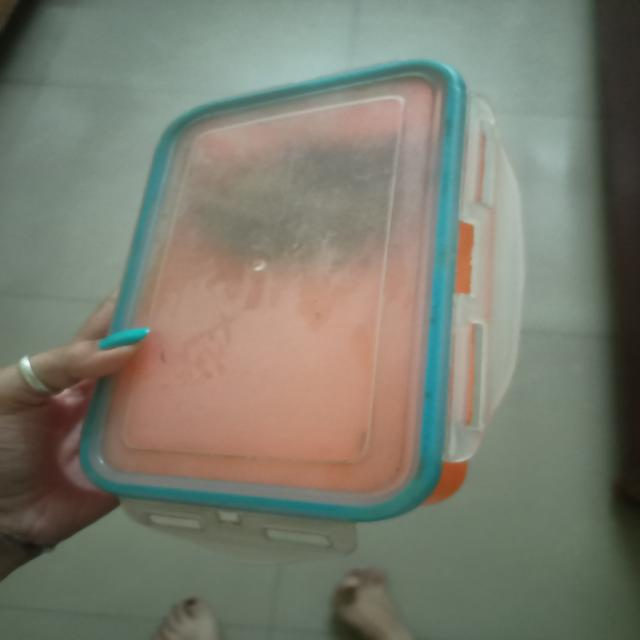plastic_box: (37, 37, 577, 578)
